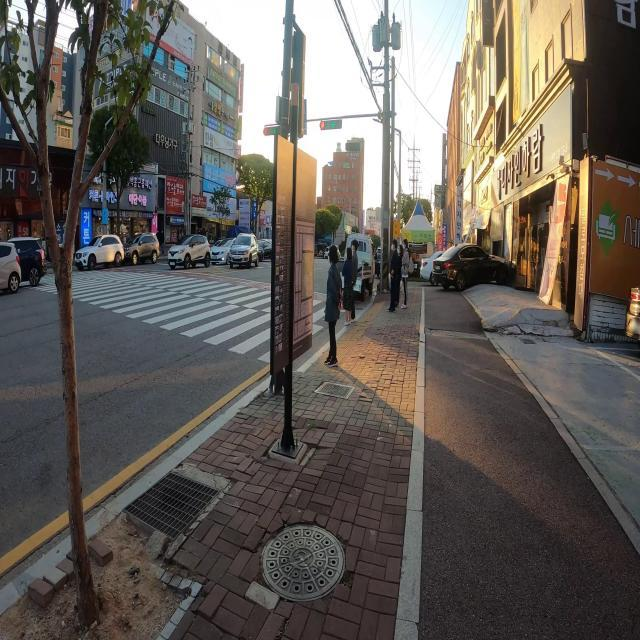crosswalk: (22, 267, 332, 371)
